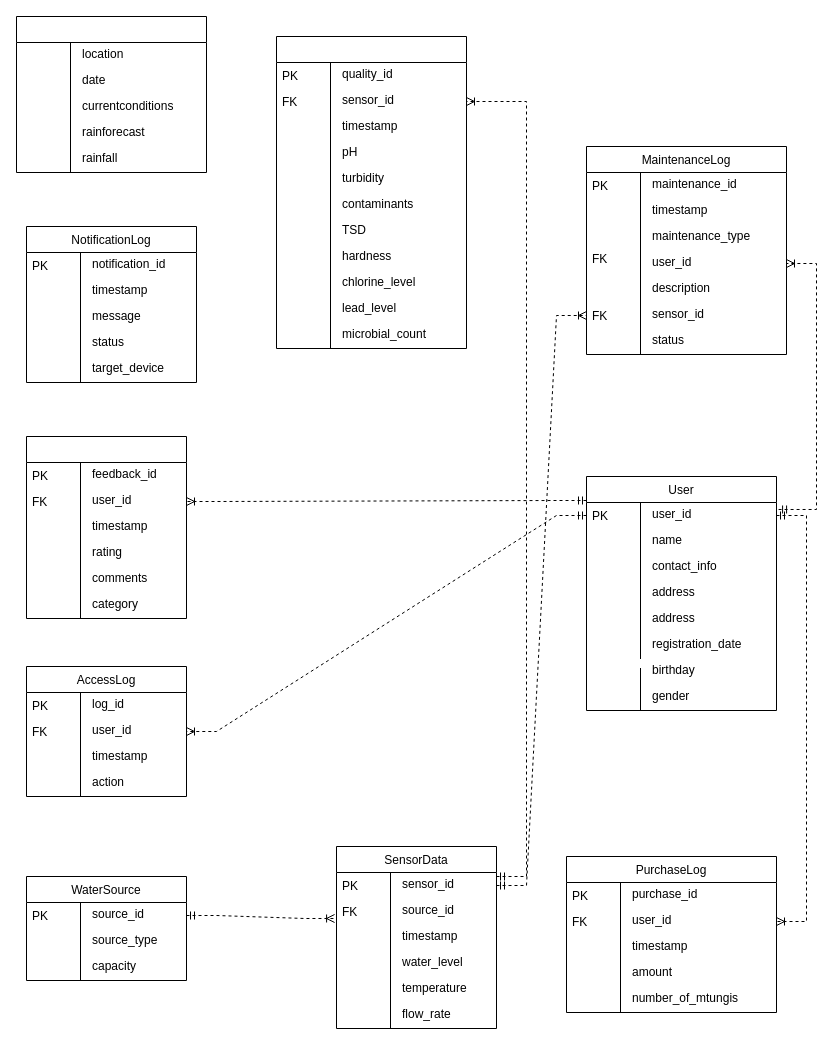
Image size: 833x1045. Some labels were removed from this diagram. The shapes that lost their labels are listed below. From the top down, each one's box as (x1, y1, x2, y2) in pixels, then its label:
(16, 16, 206, 172): APIWeather
(276, 36, 466, 348): WaterQuality
(26, 436, 186, 618): CustomerFeedback
